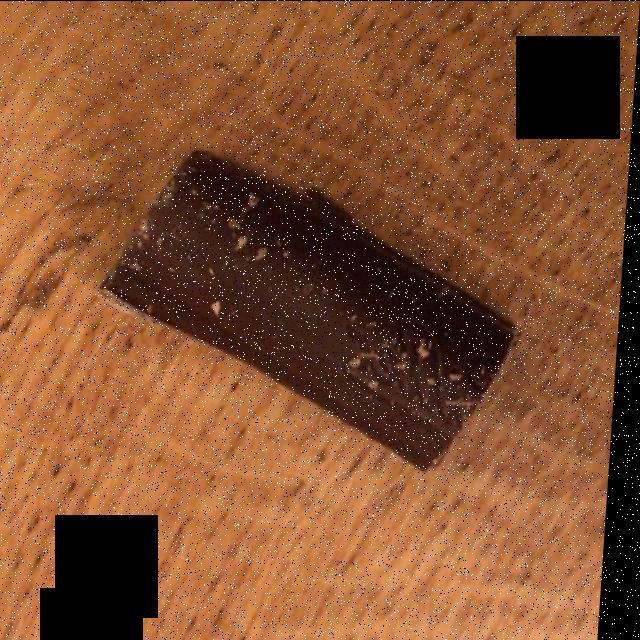chocolate: (114, 152, 512, 460)
